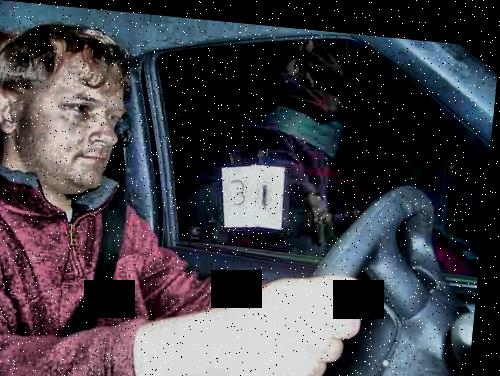seatbelt: (77, 118, 148, 330)
